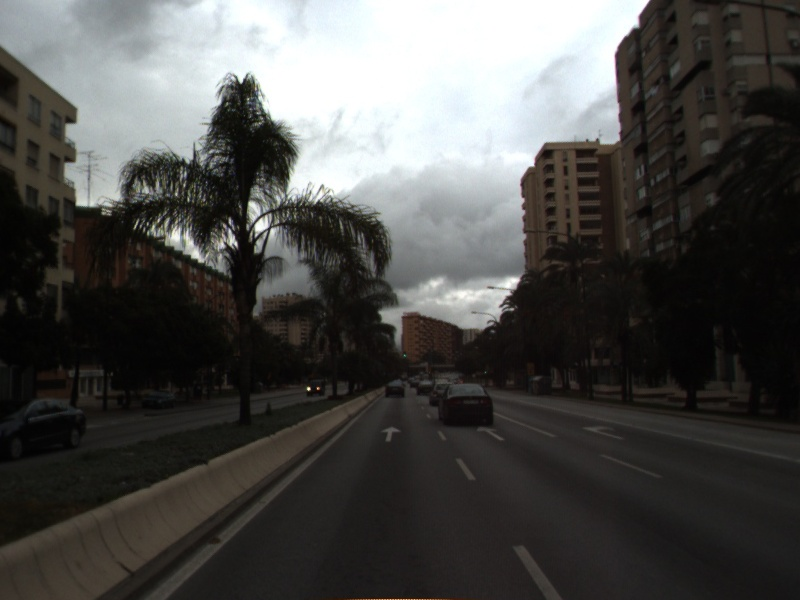RIGHT: (580, 422, 627, 442)
STRAIGHT: (474, 424, 507, 442), (378, 424, 404, 444)
